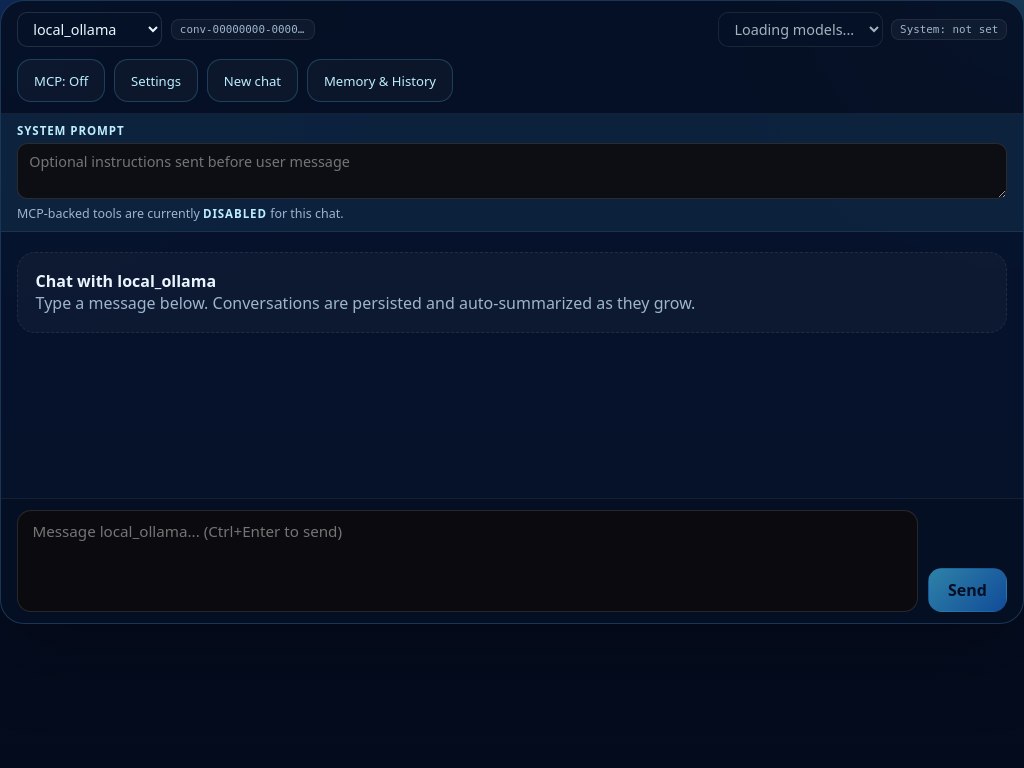
Test case: ChatPage › sends MCP enable flag when MCP tools toggle is enabled
The image size is (1024, 768).
Click the button "Settings" at (156, 80), box [114,59,198,102]
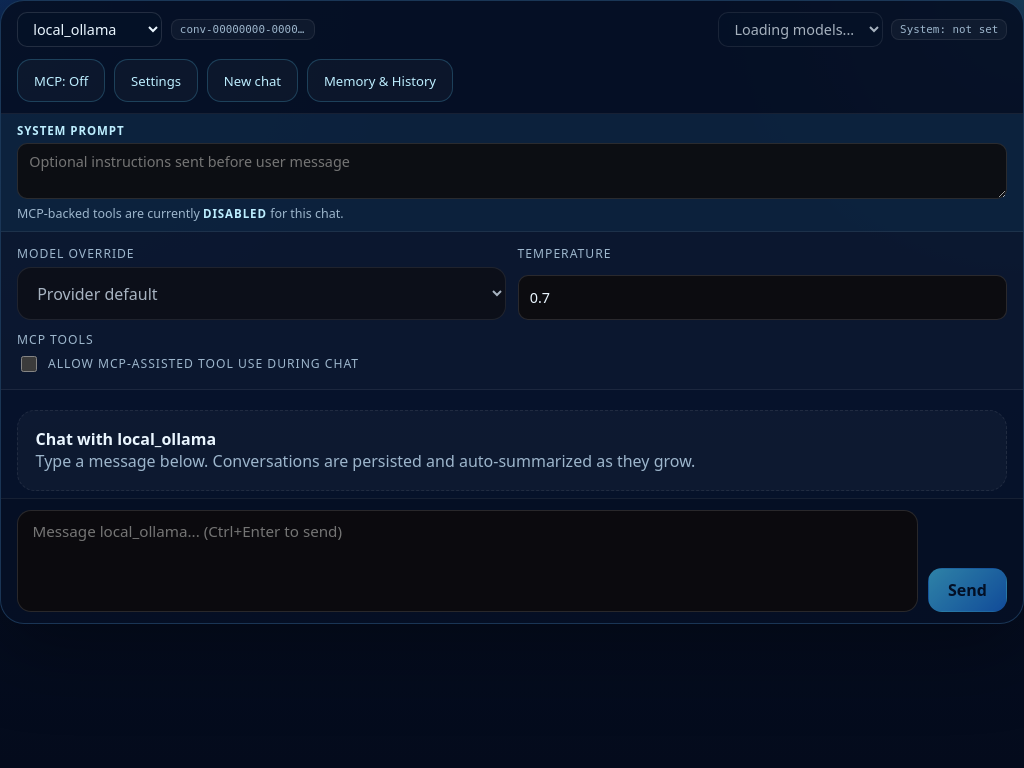
Click the checkbox at (29, 364), box [21,356,37,372]
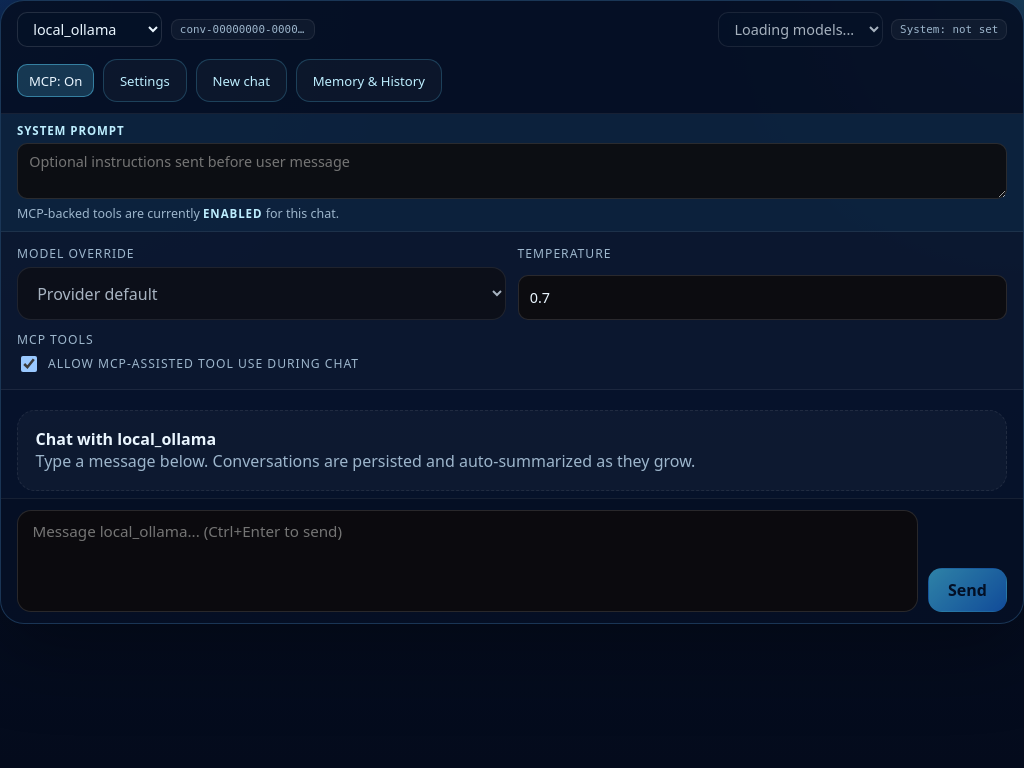
Type "Use tools" into the text box labelled "Message" at (468, 561), box [17,510,918,612]
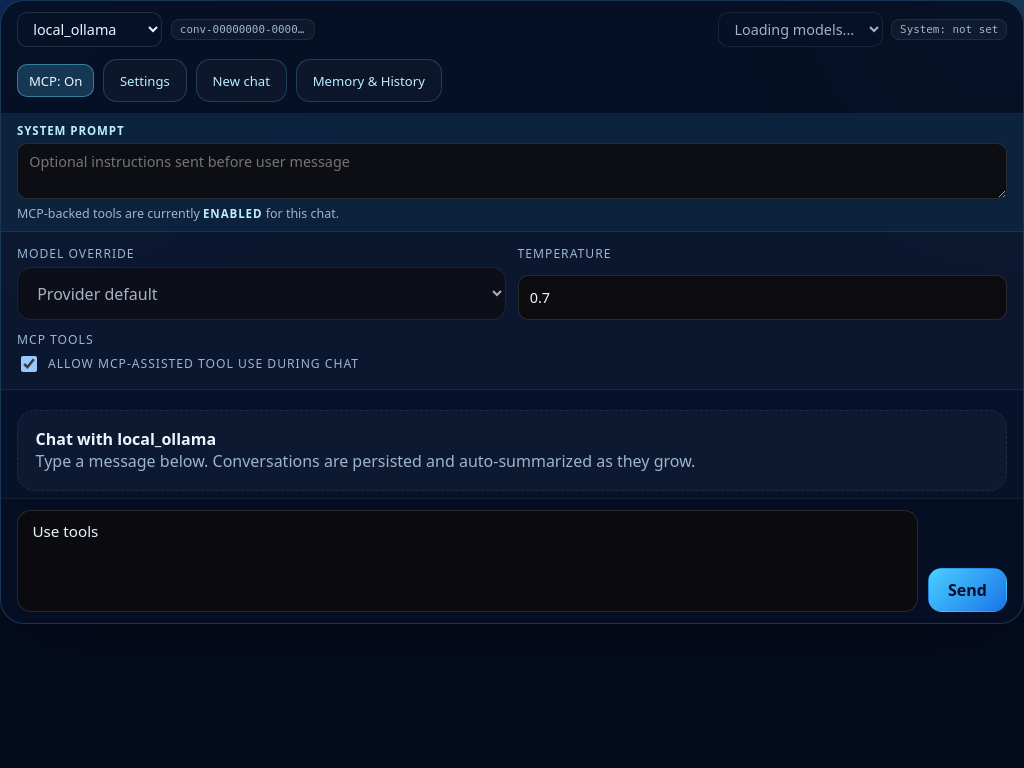
Click the button "Send" at (967, 590), box [928,568,1007,612]
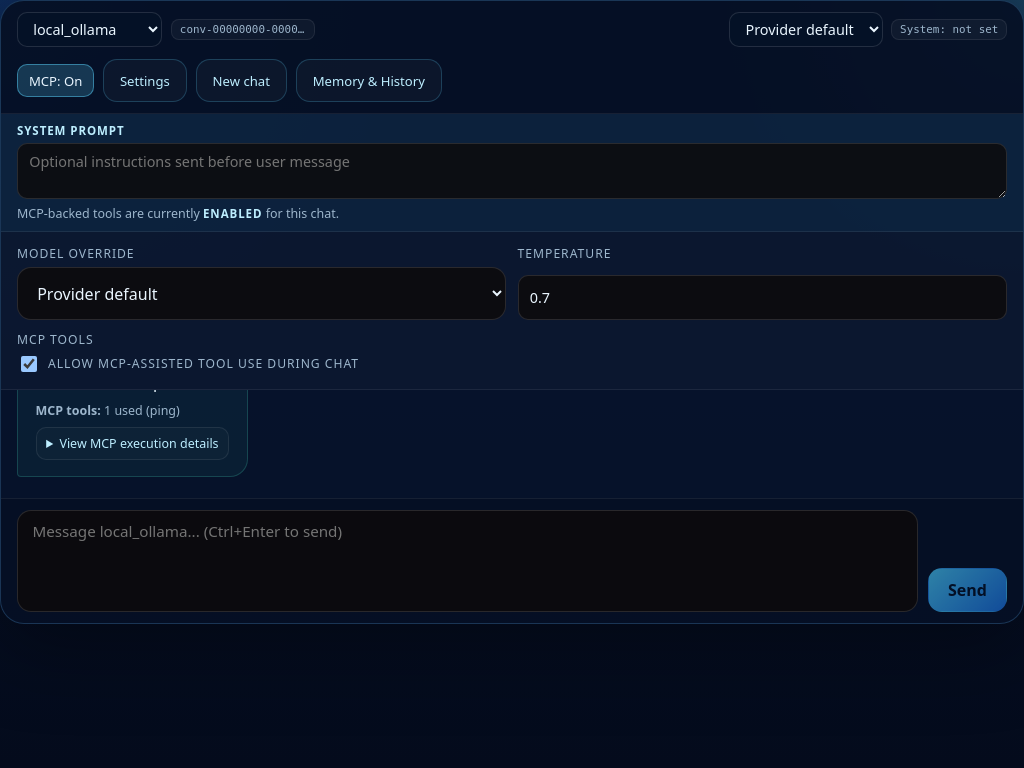
Expected: the text "MCP tools:" is shown, [36,402,101,419]
Click the heading "View MCP execution details" at (132, 443), box [46,435,219,452]
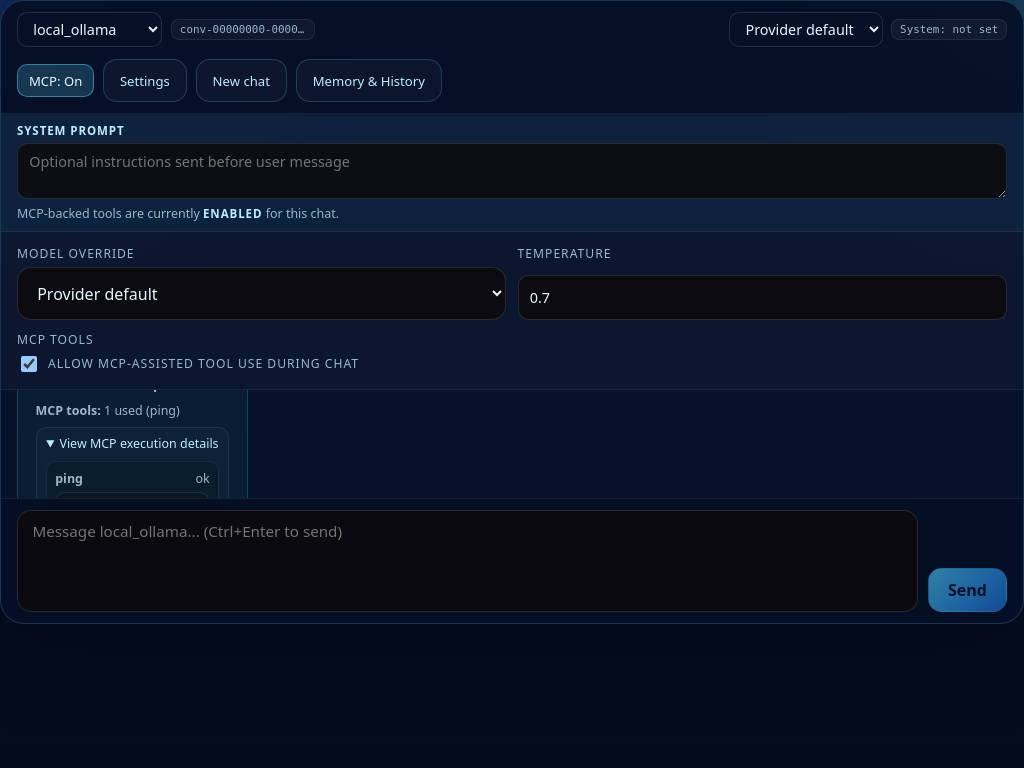
Expected: the text "ping" is shown, [55,470,83,487]
Expected: the text "ok" is shown, [195,470,210,487]
